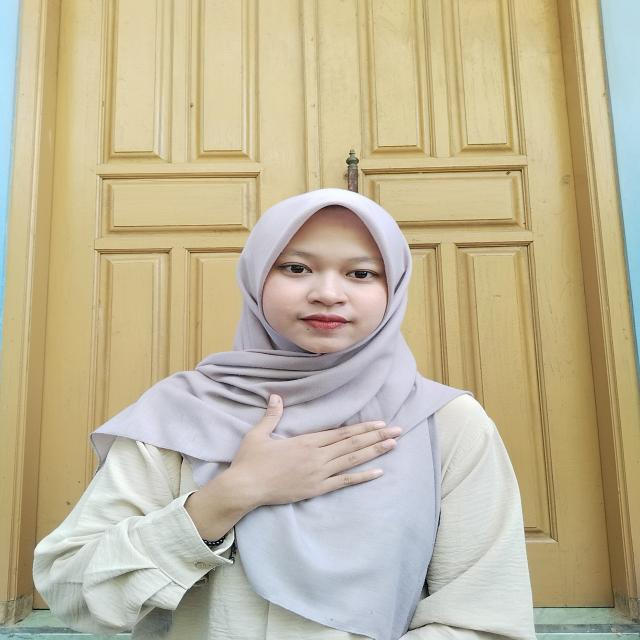tolong: (164, 389, 406, 536)
